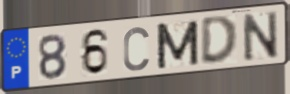6: (79, 28, 111, 78)
8: (37, 33, 69, 82)
C: (121, 25, 151, 73)
D: (199, 14, 240, 66)
M: (154, 18, 202, 71)
N: (240, 9, 280, 64)
